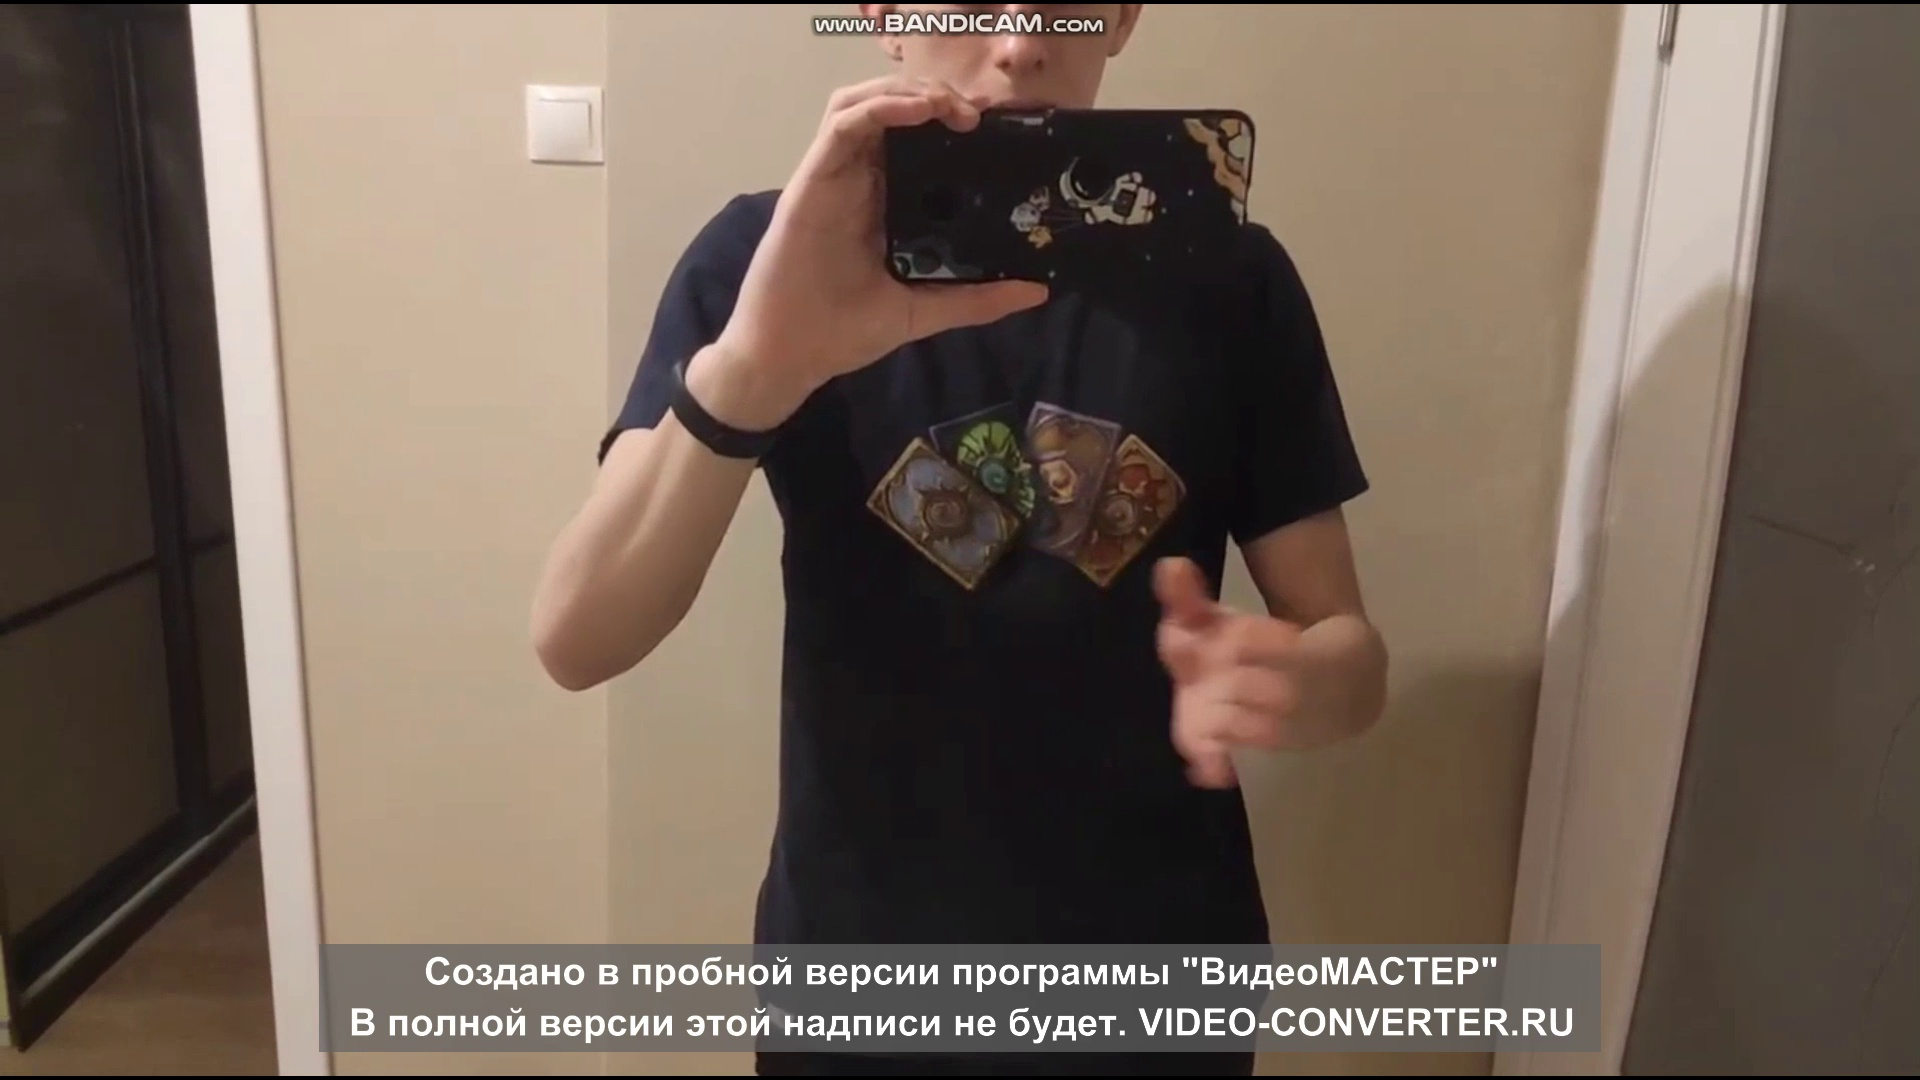Ладонь: (1150, 558, 1308, 791)
